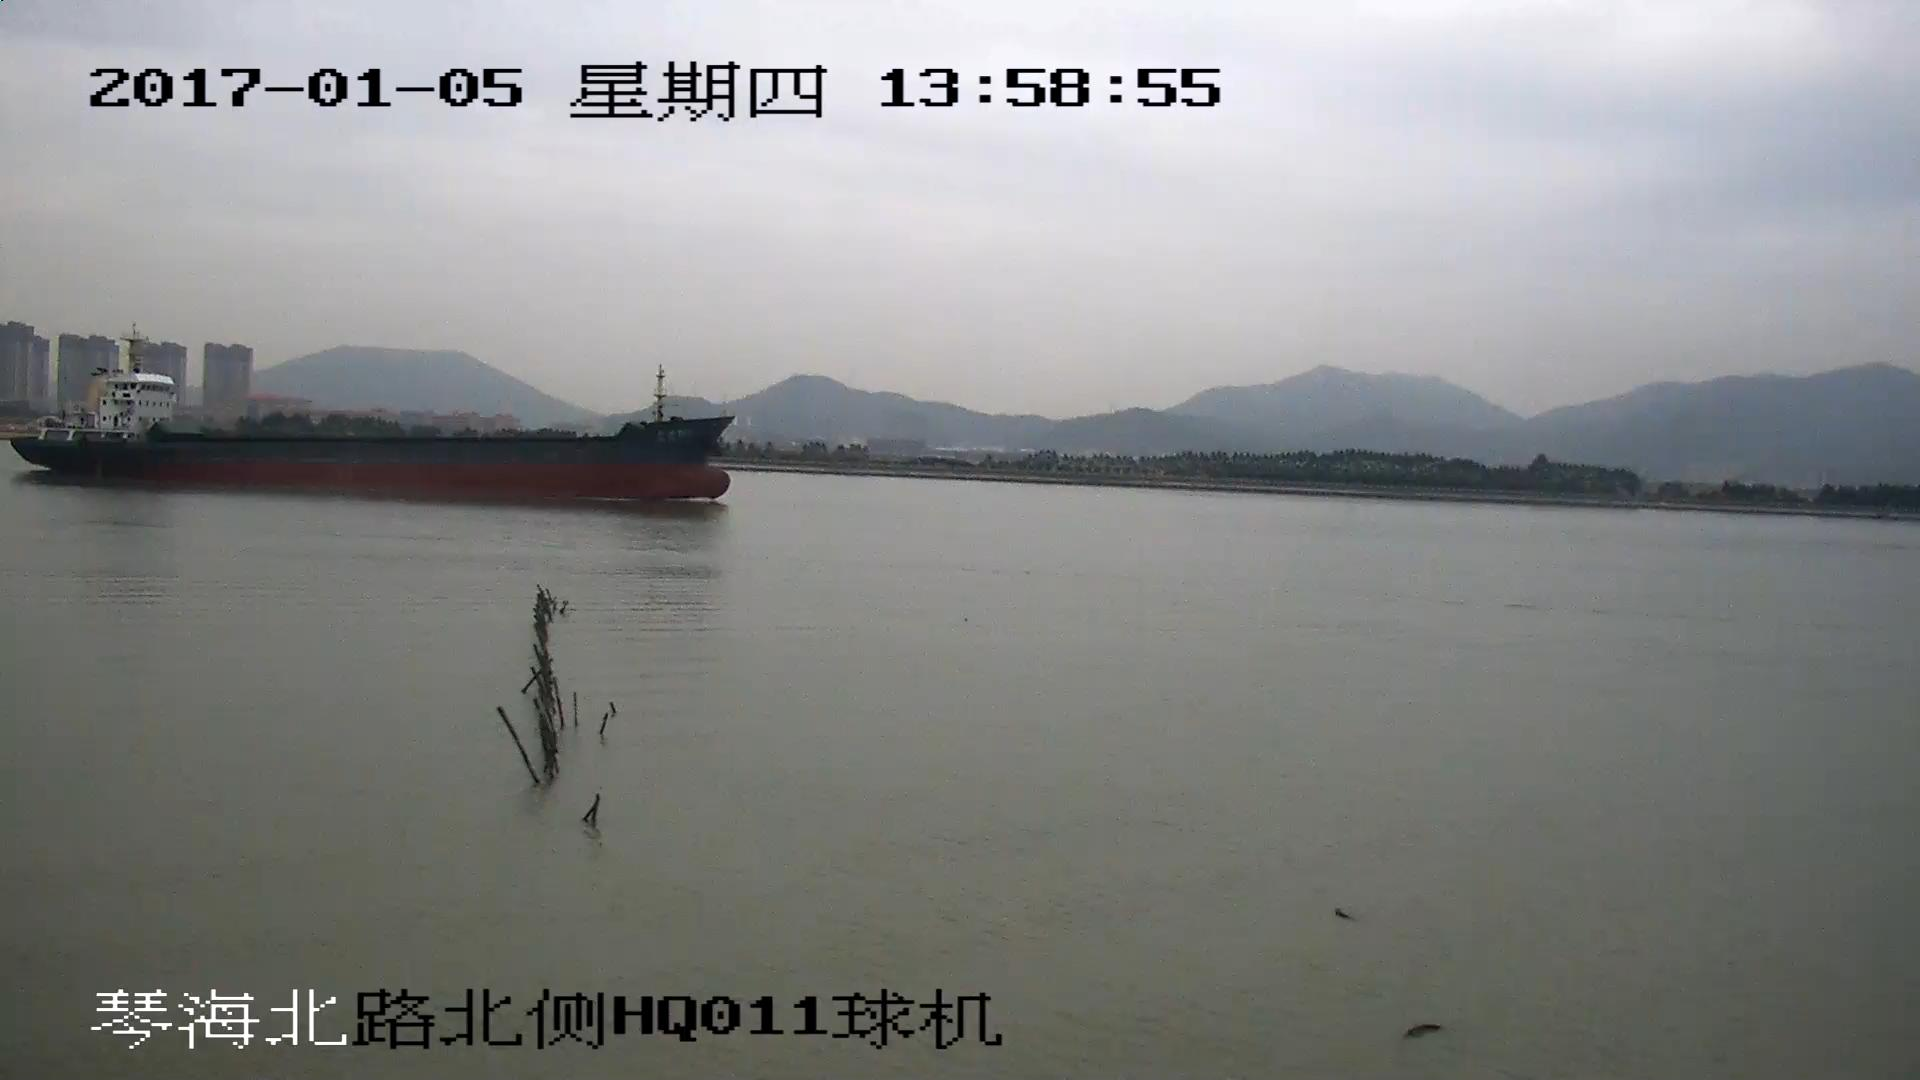general cargo ship: (14, 343, 733, 506)
